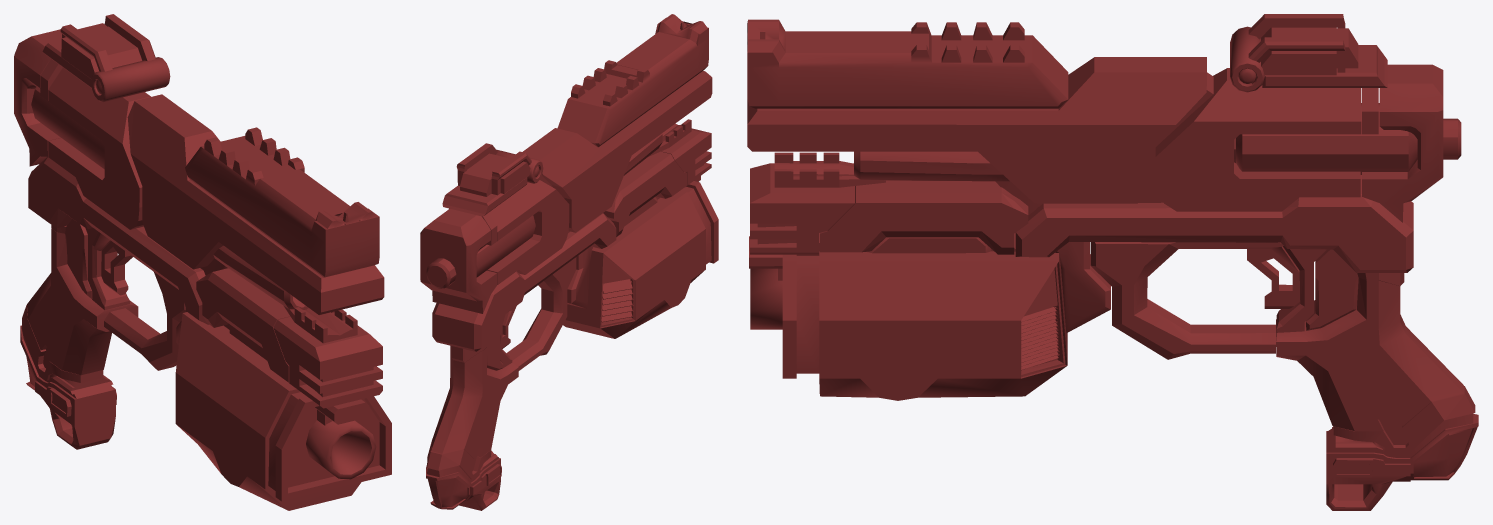
Rendered from Sci Fi Pistol.fbx.
3 views of the same model, side by side, from view 1: azimuth 30°, elevation 25°; view 2: azimuth 150°, elevation 25°; view 3: azimuth 270°, elevation 25° (orthographic). The views are drawn at different scales.
Parts seen in each view (by area): view 1: gun_low; view 2: gun_low; view 3: gun_low.
Part boxes in pixels (bbox=[...]): gun_low: bbox=[14, 14, 391, 510]; gun_low: bbox=[420, 14, 718, 510]; gun_low: bbox=[747, 14, 1478, 510].
Bounding box in the file's own units: 5.23 × 19.15 × 26.73.
